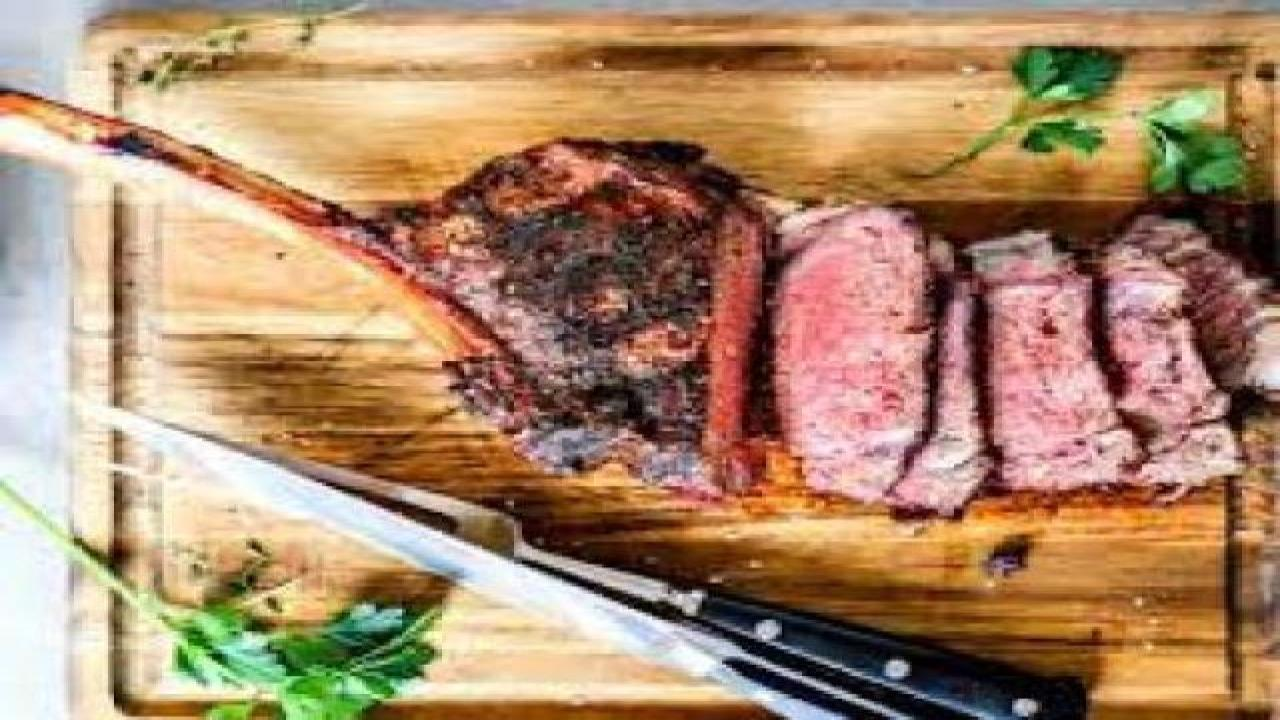Carne: (747, 168, 1266, 504), (360, 120, 806, 483)
